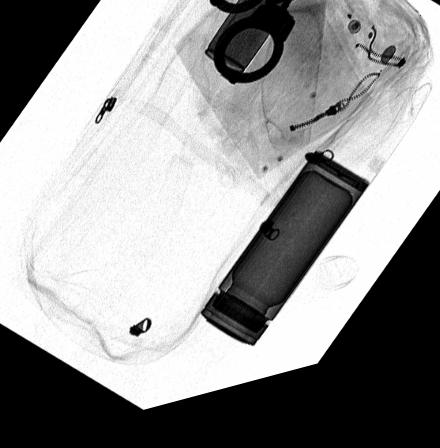HandCuffs: (208, 0, 301, 99)
